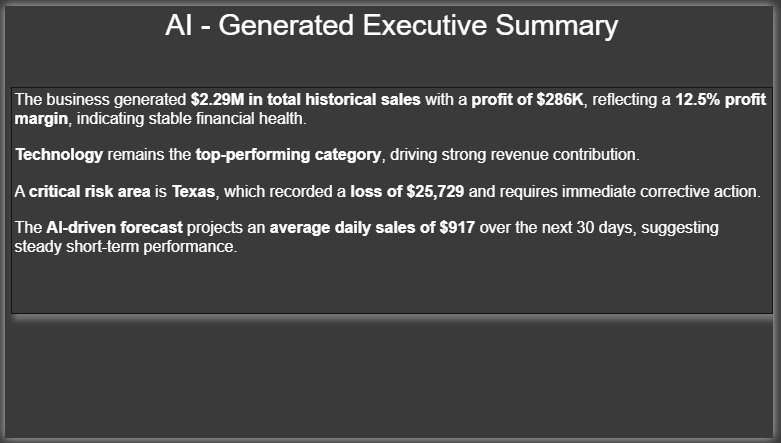

The page's visual inventory and layout, read from the dashboard file:
{"tool":"powerbi","page":{"name":"AI-insights","canvas":[1280,720],"ordinal":1},"visuals":[{"type":"textbox","box":[9.9,0,1269.9,65.2],"z":0},{"type":"textbox","box":[9.9,134.6,1269.9,378.4],"z":1}]}

Visuals, with their boxes in screenshot pixels (x1, y1, x2, y2), scaled from the page's 1280x720 canvas onto the 781x443 screenshot:
textbox: (left=6, top=0, right=780, bottom=40)
textbox: (left=6, top=83, right=780, bottom=316)
